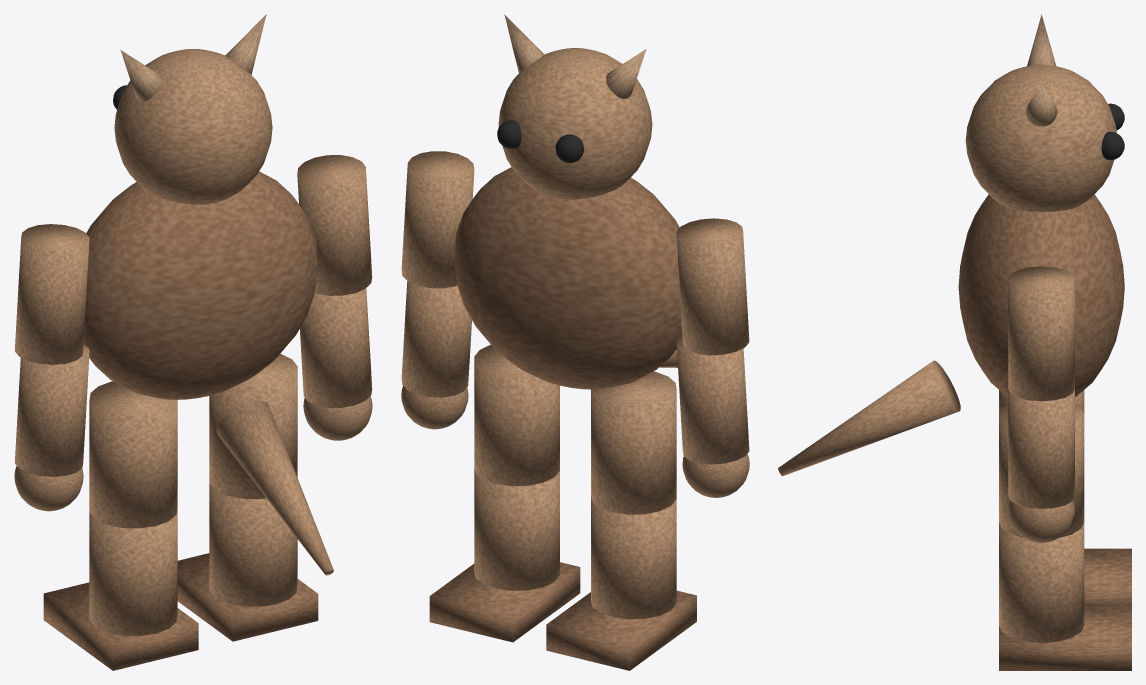
The model's file is mushussu.glb.
The picture shows the model from 3 angles, left to right: view 1: azimuth 30°, elevation 25°; view 2: azimuth 150°, elevation 25°; view 3: azimuth 270°, elevation 25°; orthographic projection. The views are drawn at different scales.
Parts seen in each view (by area): view 1: Torso, Head, ThighL, ShinL, UpperArmL, ShinR, UpperArmR, ForearmL, ForearmR, Tail, ThighR, FootL (+5 smaller); view 2: Torso, Head, ThighL, ThighR, ShinL, ShinR, UpperArmL, UpperArmR, ForearmL, ForearmR, FootR, FootL (+6 smaller); view 3: Torso, Head, ShinR, UpperArmR, ForearmR, Tail, FootR, FootL, ThighR, HandR, Horn.001, Horn (+1 smaller).
Part boxes in pixels (left/top/right/bottom): Torso: left=83, top=171, right=318, bottom=399; Head: left=114, top=49, right=272, bottom=204; ThighL: left=89, top=381, right=177, bottom=528; ShinL: left=89, top=509, right=177, bottom=635; UpperArmL: left=14, top=224, right=89, bottom=364; ShinR: left=209, top=483, right=297, bottom=606; UpperArmR: left=297, top=155, right=372, bottom=295; ForearmL: left=14, top=345, right=89, bottom=476; ForearmR: left=300, top=288, right=372, bottom=407; Tail: left=216, top=400, right=333, bottom=575; ThighR: left=209, top=353, right=297, bottom=499; FootL: left=43, top=582, right=198, bottom=670; Torso: left=454, top=167, right=682, bottom=389; Head: left=498, top=48, right=652, bottom=199; ThighL: left=591, top=371, right=676, bottom=514; ThighR: left=474, top=344, right=559, bottom=486; ShinL: left=591, top=496, right=676, bottom=619; ShinR: left=474, top=467, right=559, bottom=590; UpperArmL: left=676, top=218, right=749, bottom=355; UpperArmR: left=401, top=151, right=474, bottom=288; ForearmL: left=676, top=336, right=749, bottom=464; ForearmR: left=401, top=281, right=471, bottom=397; FootR: left=429, top=562, right=580, bottom=642; FootL: left=546, top=590, right=696, bottom=670; Torso: left=958, top=194, right=1124, bottom=397; Head: left=965, top=64, right=1116, bottom=211; ShinR: left=999, top=522, right=1084, bottom=642; UpperArmR: left=1008, top=266, right=1074, bottom=401; ForearmR: left=1008, top=389, right=1074, bottom=508; Tail: left=778, top=360, right=960, bottom=476; FootR: left=999, top=605, right=1131, bottom=670; FootL: left=1084, top=548, right=1131, bottom=604; ThighR: left=999, top=403, right=1084, bottom=537; HandR: left=1008, top=500, right=1074, bottom=542; Horn.001: left=1026, top=83, right=1057, bottom=126; Horn: left=1027, top=14, right=1056, bottom=66.
Size of the model in its own units: 0.5982 by 0.9793 by 0.5468.
4 materials, 3 textured.
